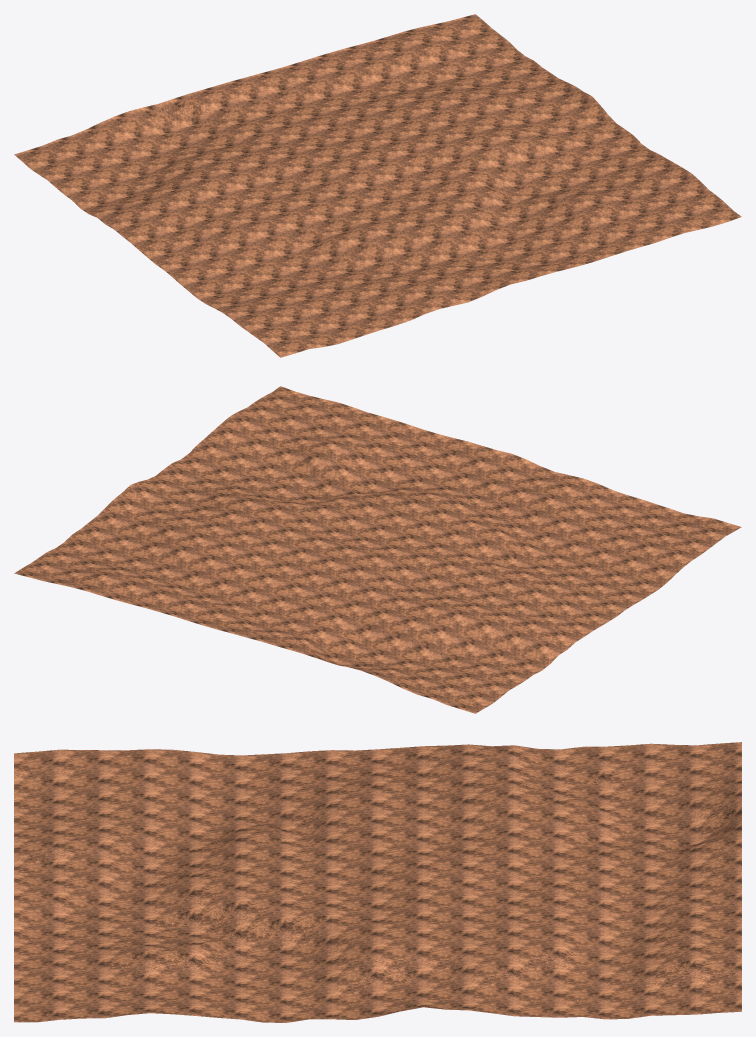
File: terrain_05_11.dae
3 views of the same model, one above another, from view 1: azimuth 30°, elevation 25°; view 2: azimuth 150°, elevation 25°; view 3: azimuth 270°, elevation 25° (orthographic). The views are drawn at different scales.
Visible parts, largest first — view 1: terrain_05_11-node; view 2: terrain_05_11-node; view 3: terrain_05_11-node.
Part boxes in pixels (box(x1,y1,x2,y2)): terrain_05_11-node: box(14, 14, 741, 357); terrain_05_11-node: box(14, 386, 741, 713); terrain_05_11-node: box(14, 742, 741, 1022).
Size of the model in its own units: 128 by 128 by 10.82.
Materials: 1 (1 with a texture image).
